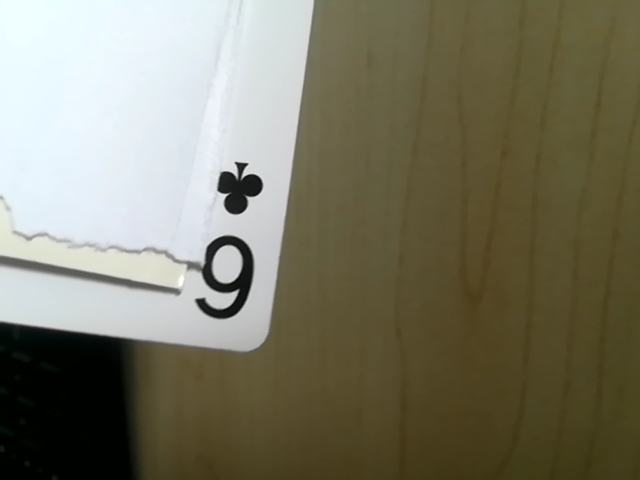mh 6: (156, 149, 290, 362)
